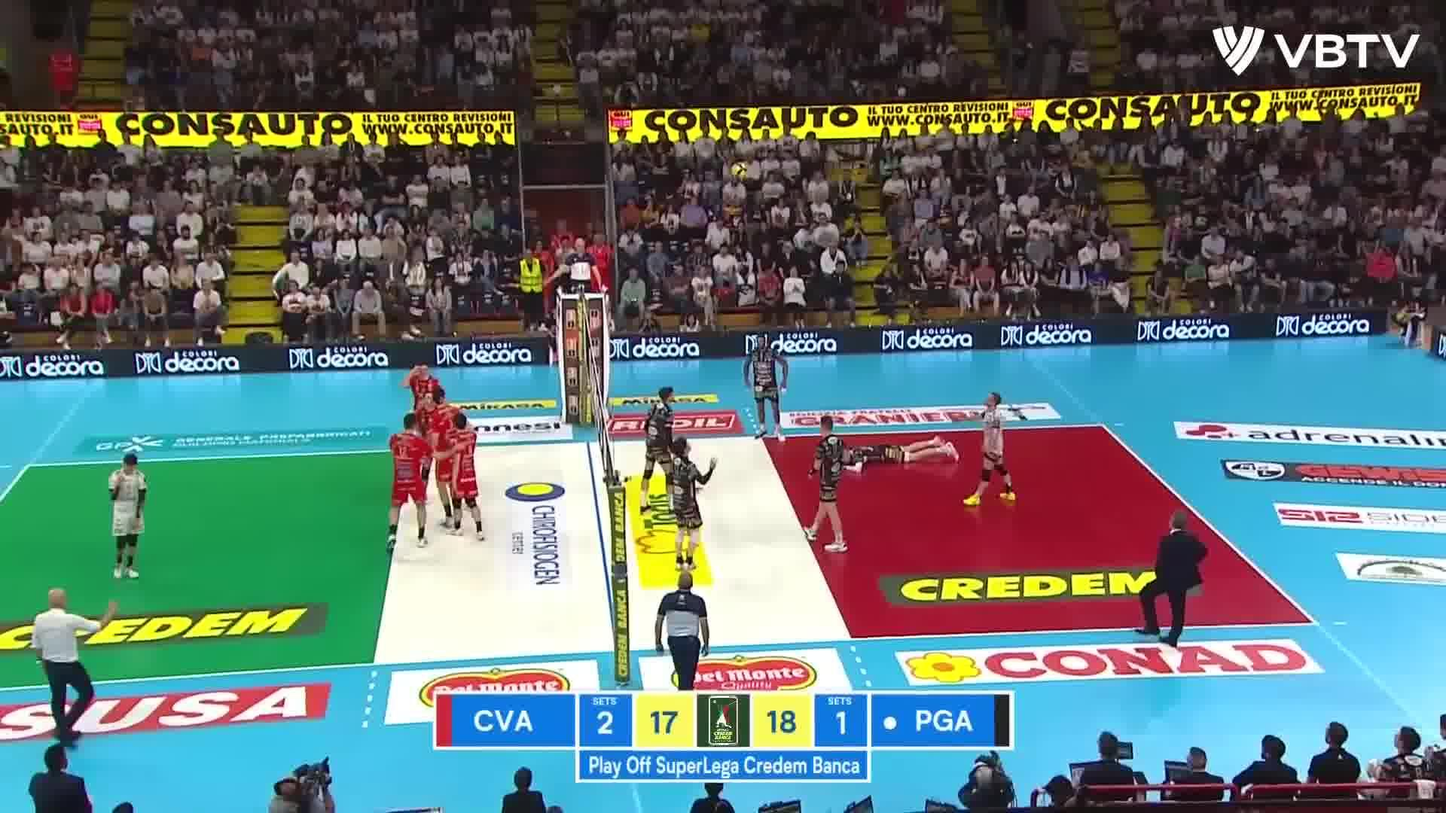balls: (729, 160, 750, 181)
